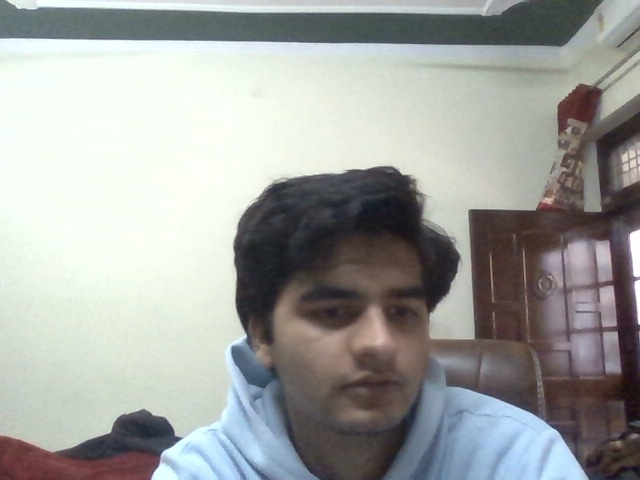fear: (293, 263, 425, 427)
open Eye: (310, 303, 362, 324), (387, 301, 422, 324)
